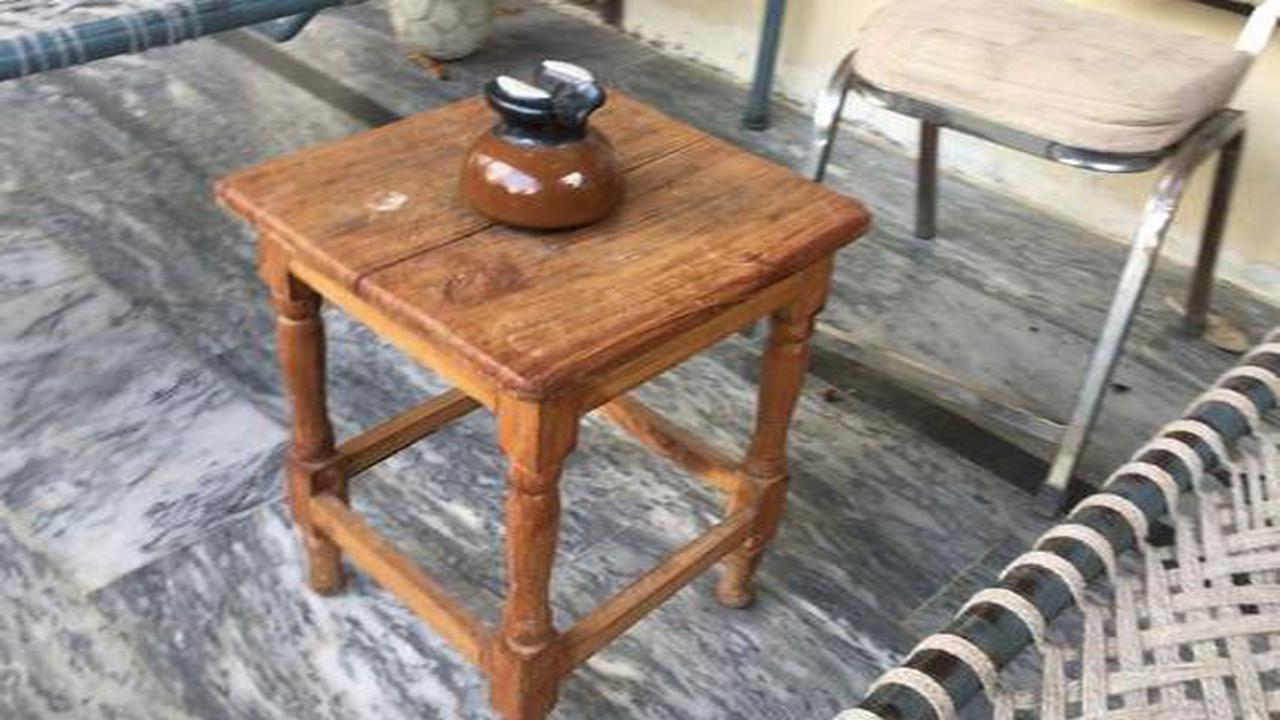insulator_pin: (437, 42, 641, 236)
